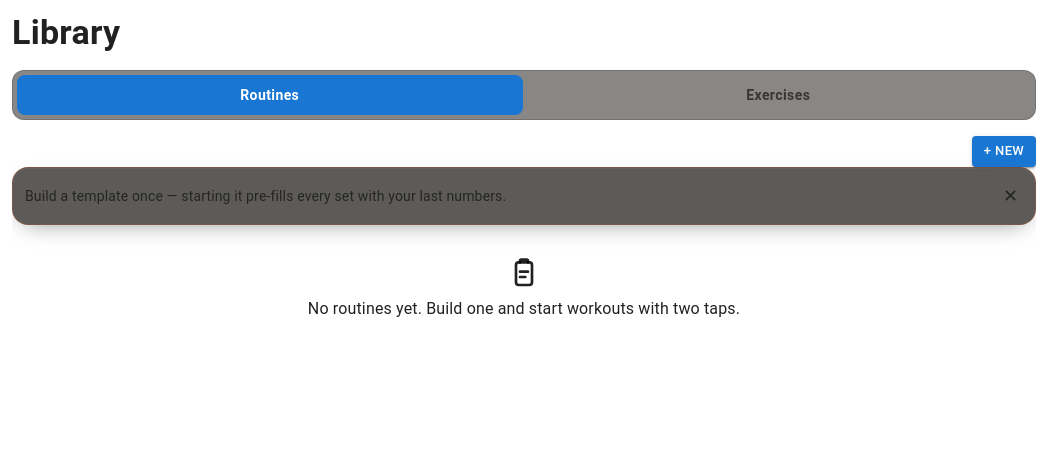
LibraryPage › switches to Exercises on tap
Click the button "Exercises" at coordinates (778, 95), box [526,75,1031,116]
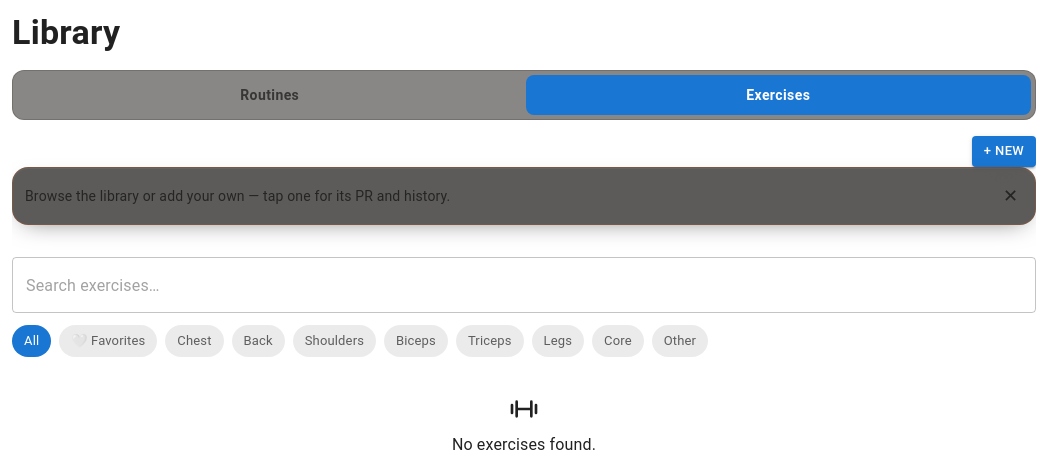
Expected: the field with placeholder "Search exercises…" is shown, [12,257,1036,313]
Expected: the text "No routines yet" is gone
